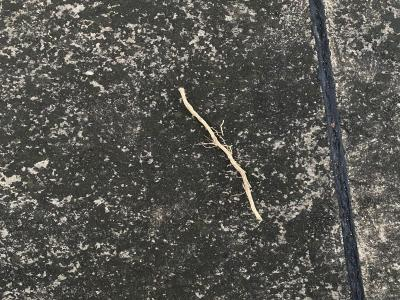Root: (178, 88, 262, 221)
